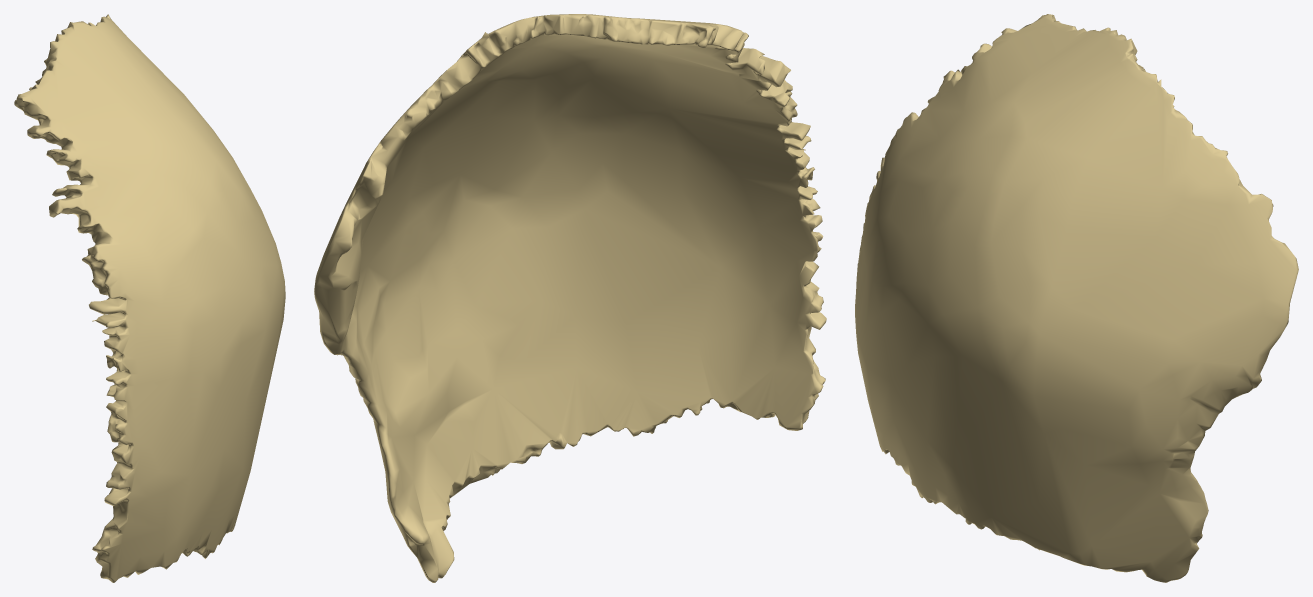
3 renders of one model, left to right at view 1: azimuth 30°, elevation 25°; view 2: azimuth 150°, elevation 25°; view 3: azimuth 270°, elevation 25°, orthographic. The views are drawn at different scales.
Visible parts, largest first — view 1: 左侧顶骨; view 2: 左侧顶骨; view 3: 左侧顶骨.
Boxes of the visible parts, <box> form: 左侧顶骨: <box>14,14,285,582</box>; 左侧顶骨: <box>314,14,826,582</box>; 左侧顶骨: <box>855,14,1298,582</box>.
Bounding box in the file's own units: 0.1204 × 0.2111 × 0.1704.
